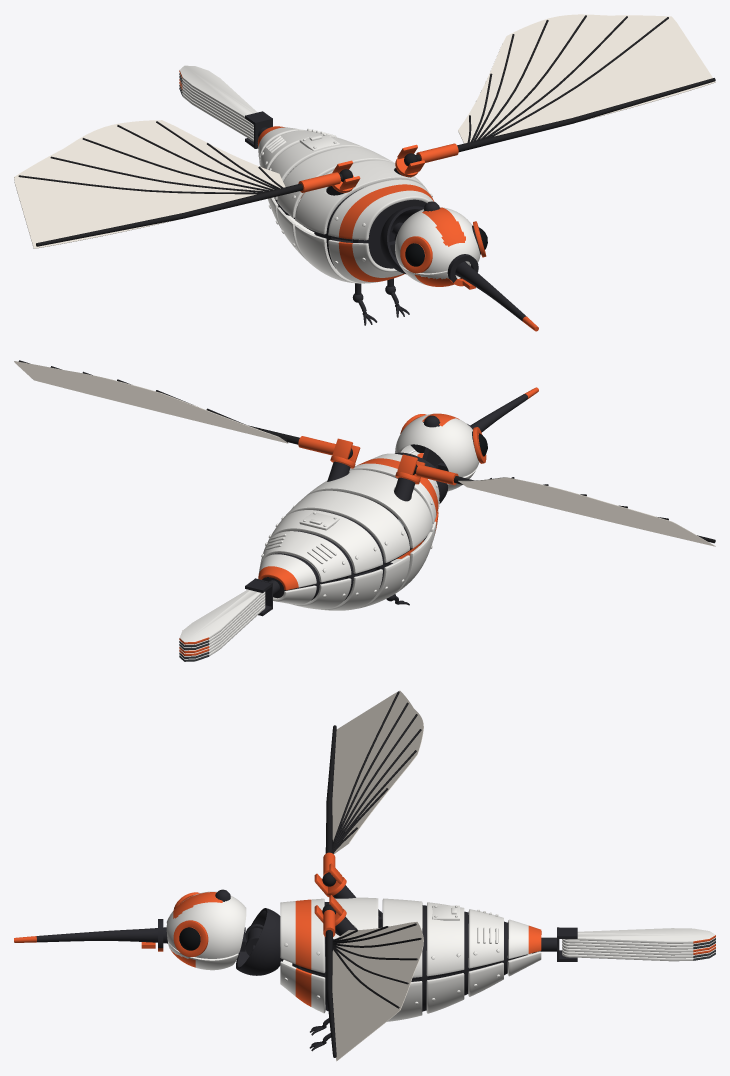
The model's file is colibri.glb.
3 renders of one model, top to bottom at view 1: azimuth 30°, elevation 25°; view 2: azimuth 150°, elevation 25°; view 3: azimuth 270°, elevation 25°, orthographic.
Visible parts, largest first — view 1: wingmem_R, wingmem_L, wingframe_R, wingframe_L, crown, top_5, airframe, top_4, top_3, bot_5, feather_3, beak (+7 smaller); view 2: wingmem_L, wingmem_R, top_3, top_4, crown, top_2, airframe, top_1, feather_3, top_0, top_5, bot_2 (+10 smaller); view 3: wingmem_L, wingmem_R, crown, airframe, wingframe_R, top_5, top_2, wingframe_L, head_base, top_1, feather_3, beak (+9 smaller).
Part boxes in pixels (x1,y1,x2,y2): wingmem_R: (14, 120, 285, 248); wingmem_L: (458, 14, 715, 143); wingframe_R: (18, 121, 352, 246); wingframe_L: (404, 15, 715, 166); crown: (395, 201, 480, 273); top_5: (328, 179, 433, 240); airframe: (245, 111, 426, 325); top_4: (295, 160, 426, 234); top_3: (277, 147, 395, 217); bot_5: (328, 240, 404, 283); feather_3: (179, 65, 257, 120); beak: (447, 254, 538, 331); wingmem_L: (14, 361, 288, 443); wingmem_R: (458, 477, 715, 546); top_3: (281, 490, 409, 562); top_4: (304, 469, 432, 548); crown: (395, 413, 479, 476); top_2: (268, 510, 382, 573); airframe: (245, 461, 426, 616); top_1: (260, 531, 351, 582); feather_3: (179, 589, 262, 644); top_0: (258, 554, 316, 590); top_5: (350, 453, 439, 523); bot_2: (321, 569, 382, 610); wingmem_L: (332, 922, 423, 1061); wingmem_R: (332, 690, 423, 853); crown: (166, 889, 246, 958); airframe: (247, 885, 577, 1051); wingframe_R: (322, 691, 421, 886); top_5: (280, 898, 325, 972); top_2: (426, 902, 464, 976); wingframe_L: (322, 904, 421, 1057); head_base: (236, 908, 283, 975); top_1: (468, 909, 503, 968); feather_3: (564, 928, 715, 943); beak: (14, 919, 167, 951).
Size of the model in its own units: 168 by 49.01 by 150.
